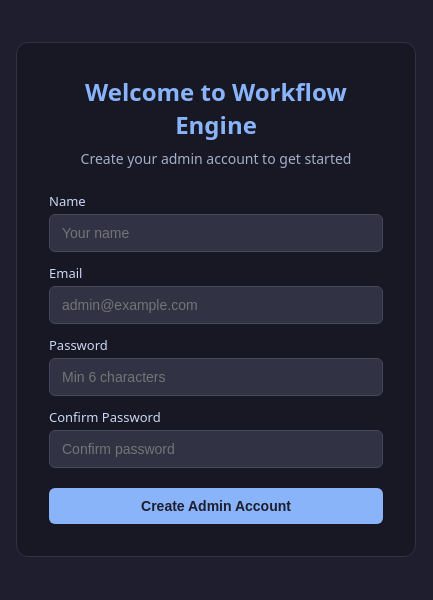
Test: SetupWizard › shows password mismatch error
Type "admin@test.com" into the field with placeholder "admin@example.com".
click(216, 304); type("admin@test.com")  # box [49, 286, 383, 324]
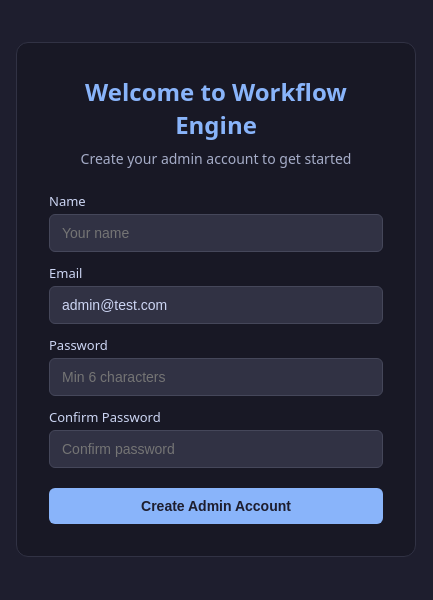
Type "password123" into the password field with placeholder "Min 6 characters".
click(216, 376); type("password123")  # box [49, 358, 383, 396]
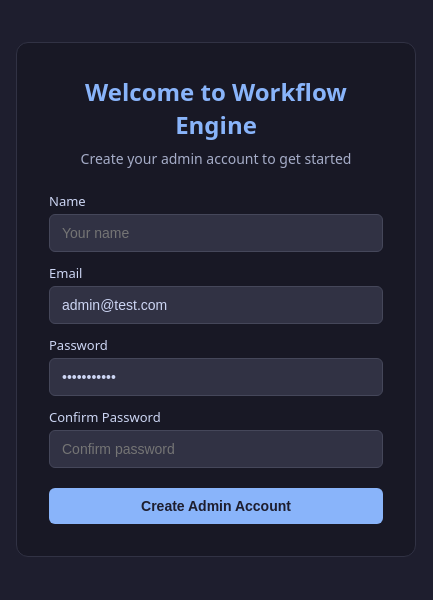
Type "different" into the password field with placeholder "Confirm password".
click(216, 448); type("different")  # box [49, 430, 383, 468]
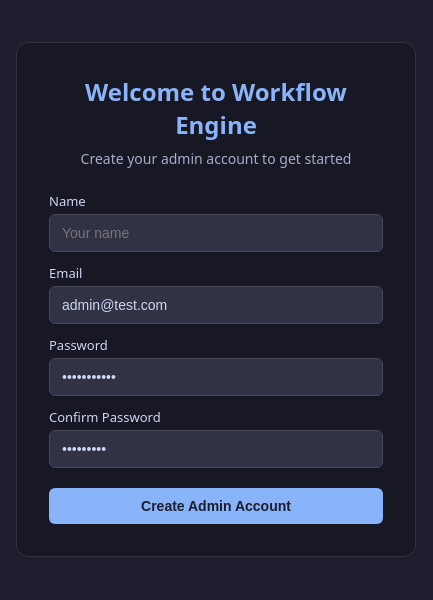
Click the button "Create Admin Account".
click(216, 506)  # box [49, 488, 383, 524]
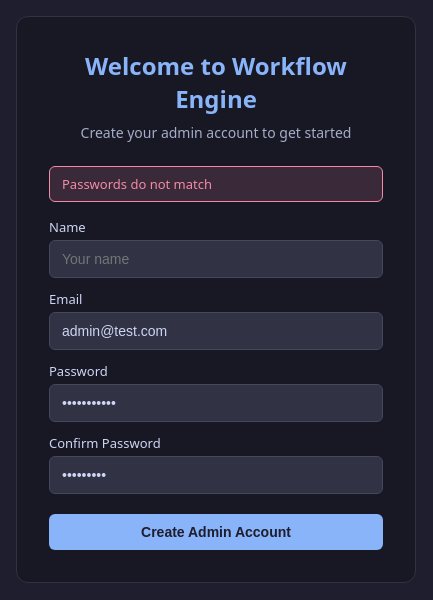
Result: the text "Passwords do not match" is shown at [49, 166, 383, 202]
